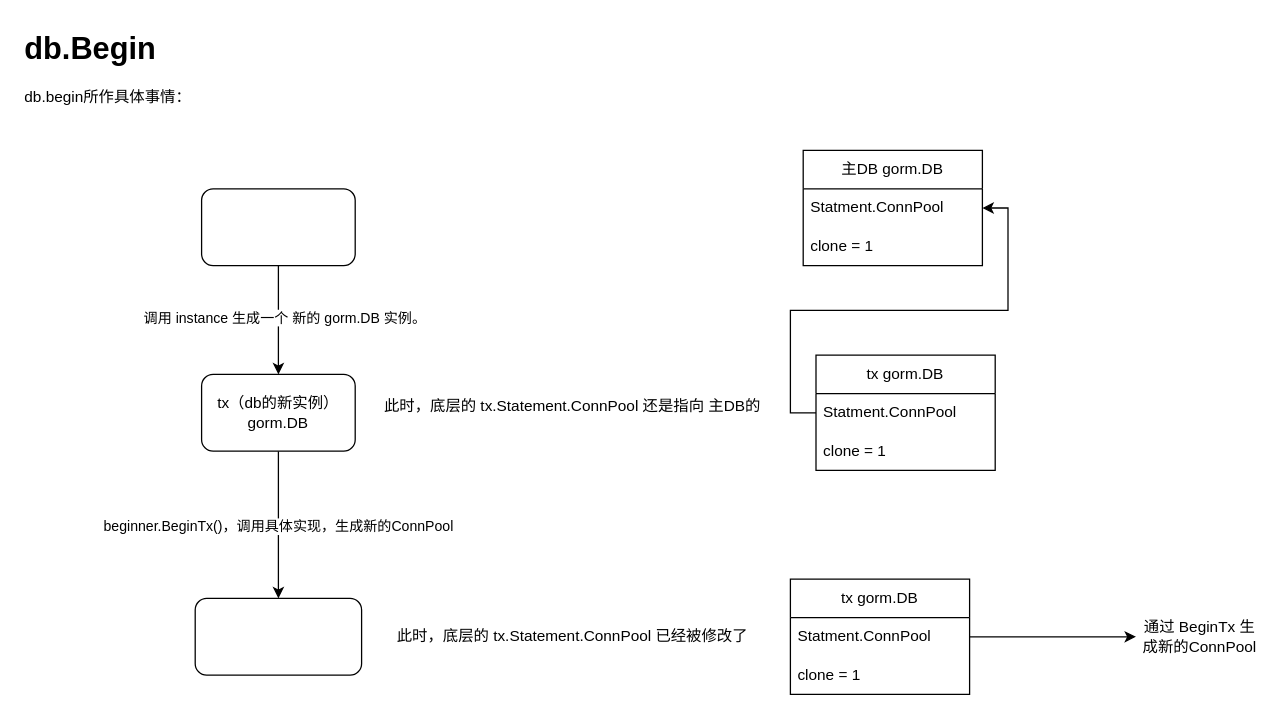
Image size: 1285x726. Some labels were removed from this diagram. Here are the shapes that lost their labels. From the top down, the centre of each, then its label:
the point at 277,227: db（主DB） gorm.DB
the point at 278,636: tx.Statement.ConnPool
